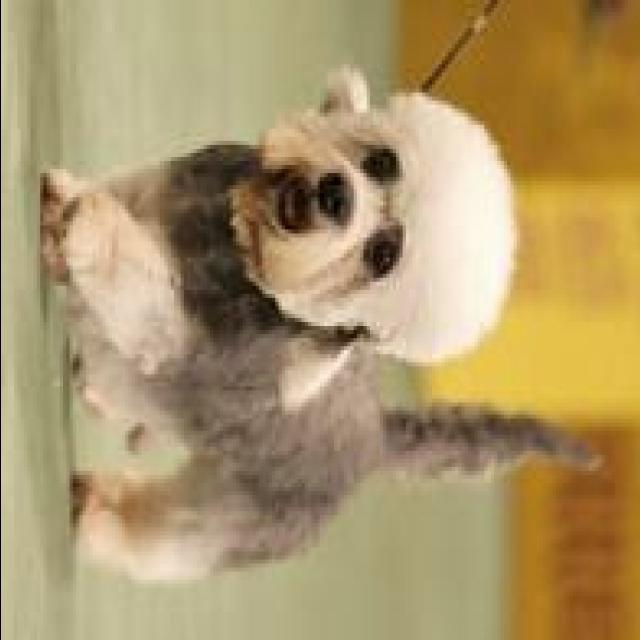dandie_dinmont: (36, 60, 604, 588)
